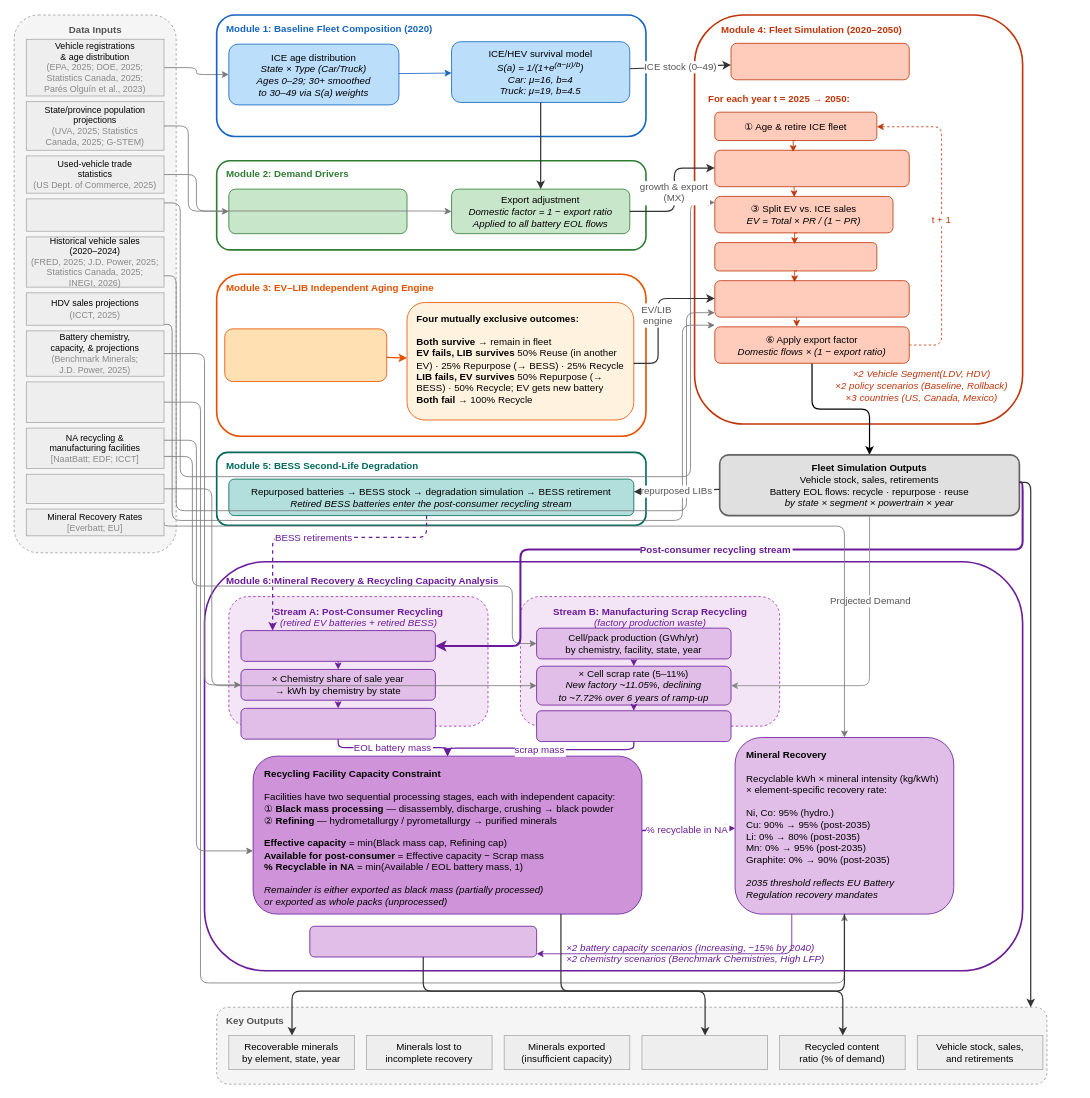
This 1090x1098 diagram has some shape labels left out. Here are the shapes that lost their labels. From the top down, the box of each, then its label:
(730, 43, 909, 80): Initialize ICE stock State × Segment × Age (0–49)
(714, 149, 909, 187): ② Total new vehicles needed = Retirements + Growth − Surplus
(26, 198, 164, 231): EV penetration schedules (RMI; ENME, 2023)
(228, 188, 407, 234): Population-driven growth Growth s,t = ΔPop s,t × VPP s
(714, 242, 877, 271): ④ Add new ICE to age bin 0
(714, 280, 909, 317): ⑤ Step EV/LIB engine → Reuse · Repurpose · Recycle flows
(224, 328, 387, 382): Stock matrix N [a EV , a LIB ] EV survival: μ=17, σ=4 LIB survival: μ=15, σ=4
(26, 381, 164, 422): Mineral intensity & specific energy (kg/kWh) (ANL, 2024)
(26, 473, 164, 503): Scrap rates [BatPac]
(240, 630, 435, 661): Retired batteries (count) × Avg battery capacity (kWh/batt)
(240, 708, 435, 739): × Specific energy (kg/kWh) → EOL battery mass (tonnes)
(536, 710, 731, 742): × Specific energy (kg/kWh) → Scrap mass (tonnes)
(309, 925, 537, 957): Recycled Content Ratio = Recycled minerals t / Demanded minerals t+1
(641, 1035, 767, 1070): Additional recycling capacity needed
